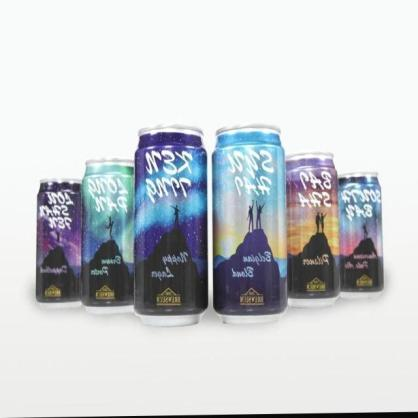can: (134, 120, 210, 327), (211, 125, 287, 328), (82, 152, 136, 314), (288, 150, 338, 303), (36, 175, 84, 304), (340, 169, 382, 301)
